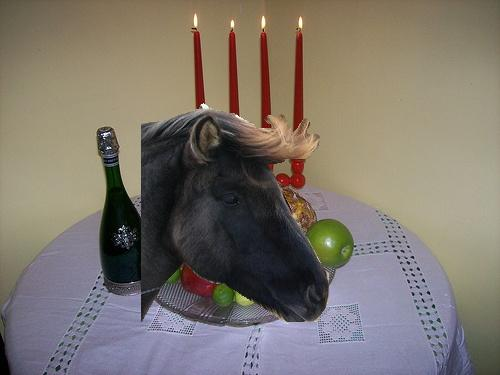tampered: (142, 104, 329, 322)
